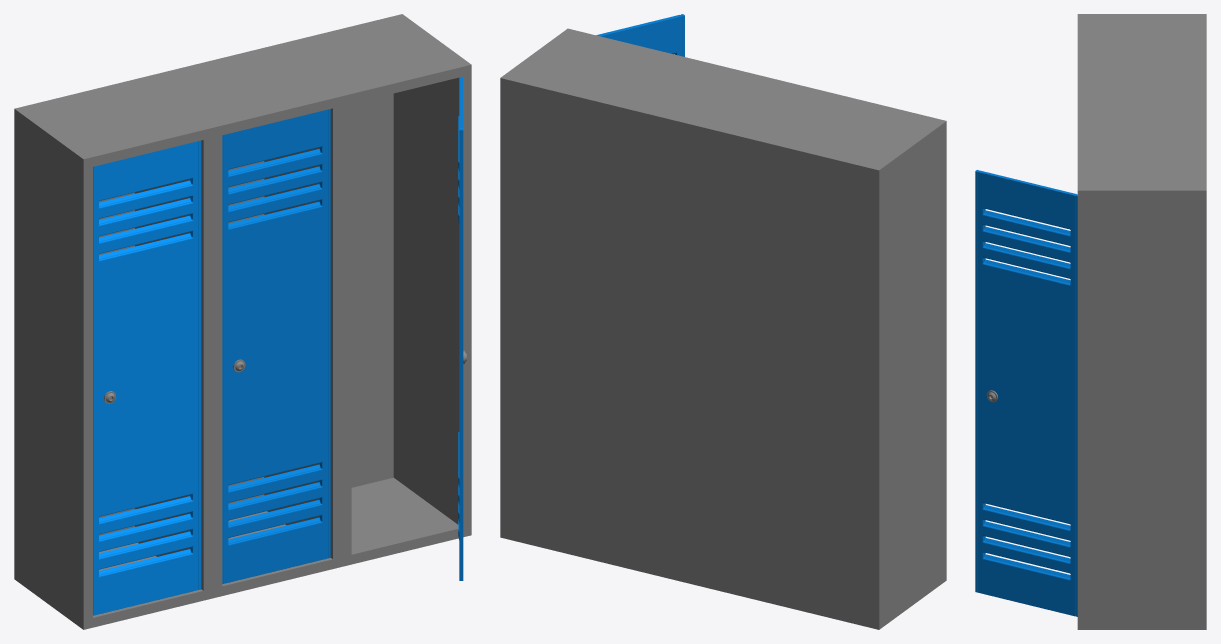
The model's file is Locker5.fbx.
The picture shows the model from 3 angles, left to right: view 1: azimuth 30°, elevation 25°; view 2: azimuth 150°, elevation 25°; view 3: azimuth 270°, elevation 25°; orthographic projection. The views are drawn at different scales.
Visible parts, largest first — view 1: Cube, Circle.001, Circle.005, Circle.003; view 2: Cube, Circle.003; view 3: Cube, Circle.003.
Part boxes in pixels (<box>): Cube: <box>14,14,471,629</box>; Circle.001: <box>222,109,330,583</box>; Circle.005: <box>93,140,201,615</box>; Circle.003: <box>458,76,466,580</box>; Cube: <box>500,28,946,629</box>; Circle.003: <box>596,14,684,56</box>; Cube: <box>1077,14,1206,629</box>; Circle.003: <box>975,170,1077,616</box>.
Bounding box in the file's own units: 647 × 750 × 358.
